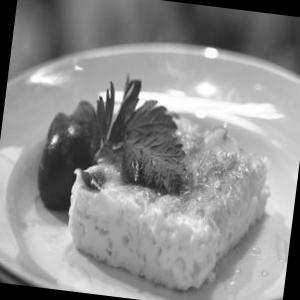omelet: (43, 66, 269, 286)
